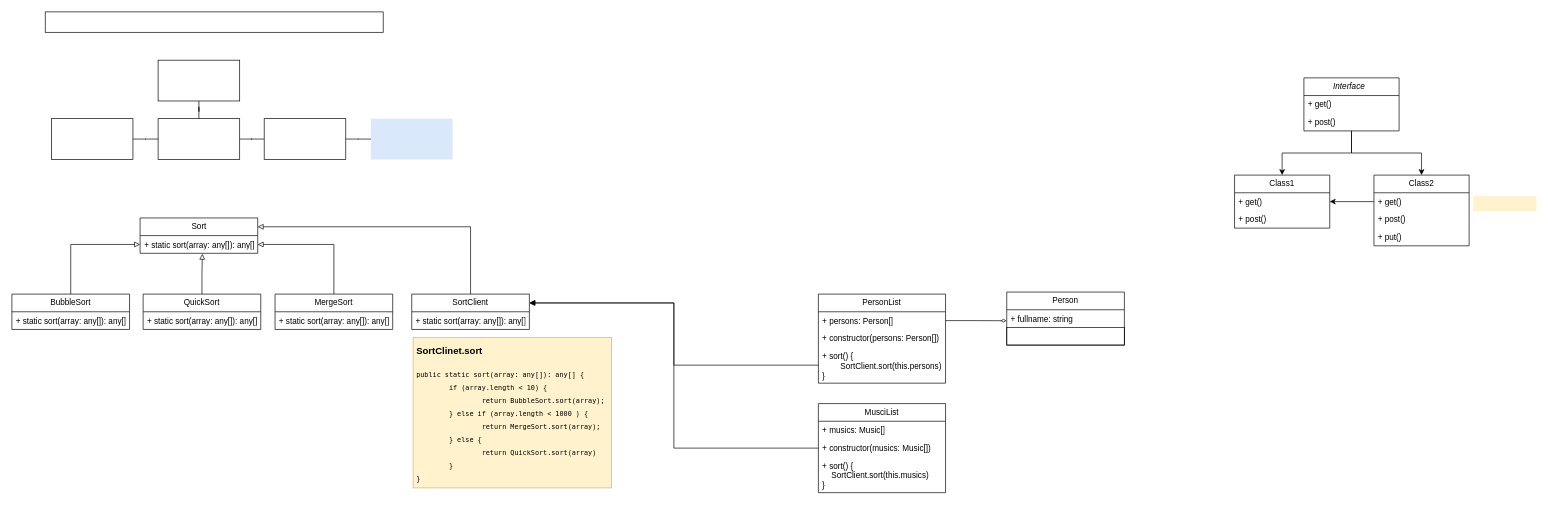
This 1548x507 diagram has some shape labels left out. Each missing label, with the centre of its shape:
+ constructor(fullname: string): (x=1065, y=336)
Class1.get(): (x=1504, y=203)
Open-closed principle (Принцип открытости/закрытости): (x=214, y=21)
